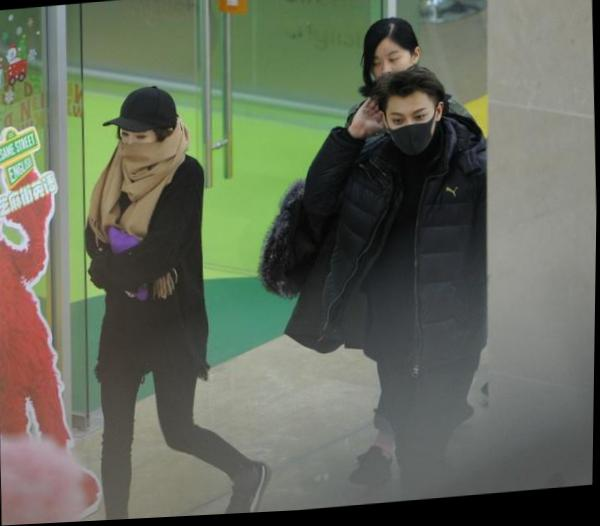NONE: (371, 50, 410, 92)
OK: (387, 107, 439, 163)
WRONG: (122, 123, 159, 164)
